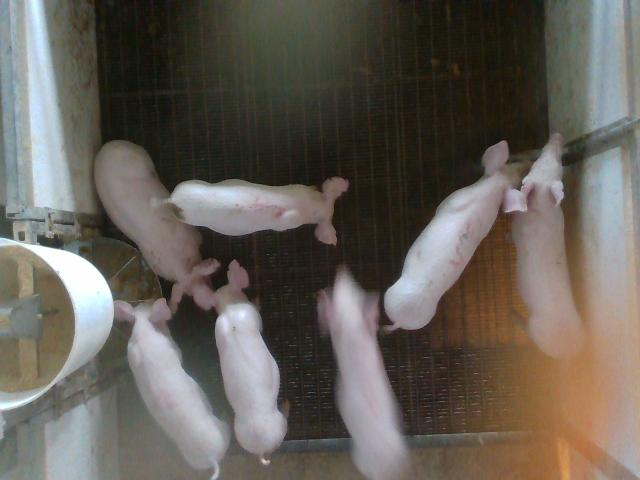pig-3: (385, 141, 529, 329)
pig-4: (114, 299, 230, 478)
pig-5: (169, 178, 349, 244)
